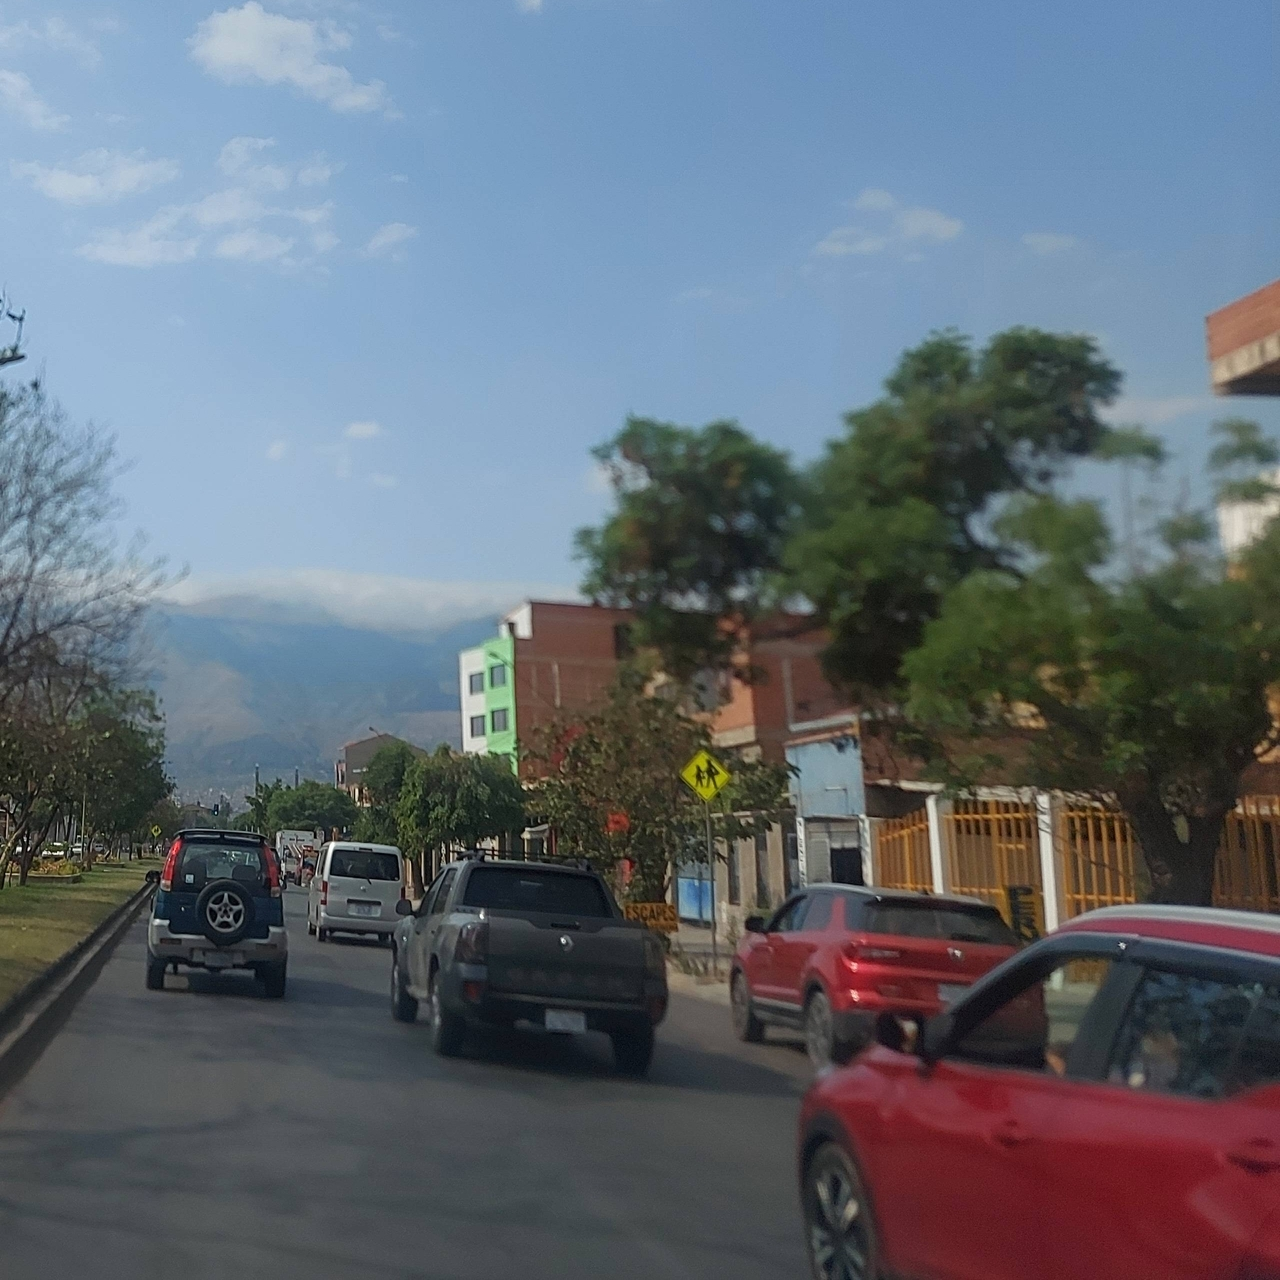zona-escolar: (675, 751, 730, 804)
